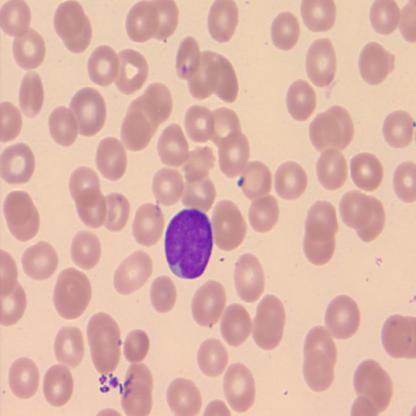Blast: (162, 206, 216, 281)
